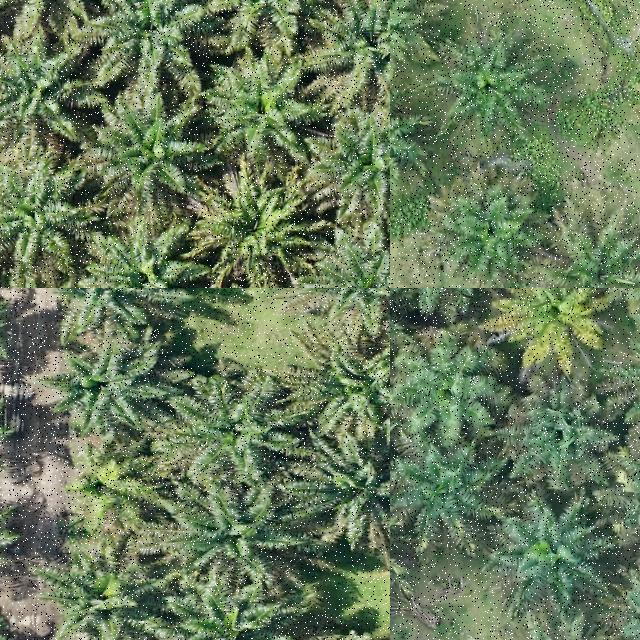Ganoderma: (56, 459, 147, 516), (517, 288, 594, 345)
